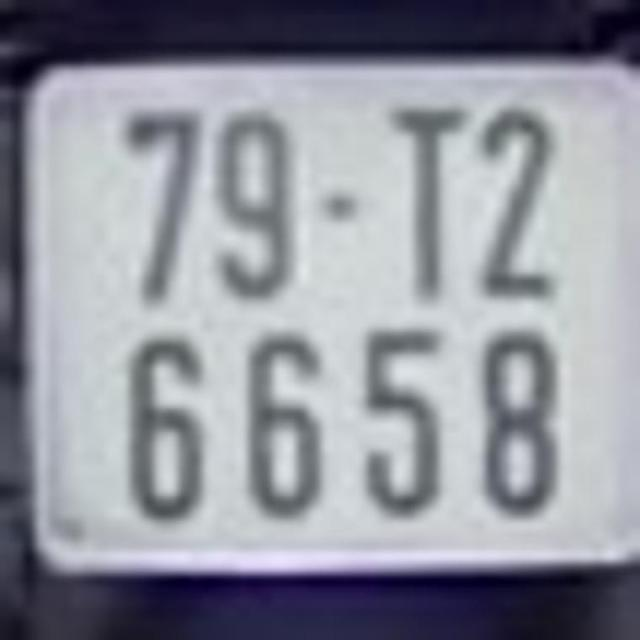2: (478, 102, 560, 300)
5: (360, 318, 446, 518)
6: (243, 325, 326, 518), (125, 330, 208, 522)
7: (118, 103, 202, 306)
8: (479, 324, 562, 518)
9: (212, 104, 296, 302)
T: (388, 103, 468, 299)
